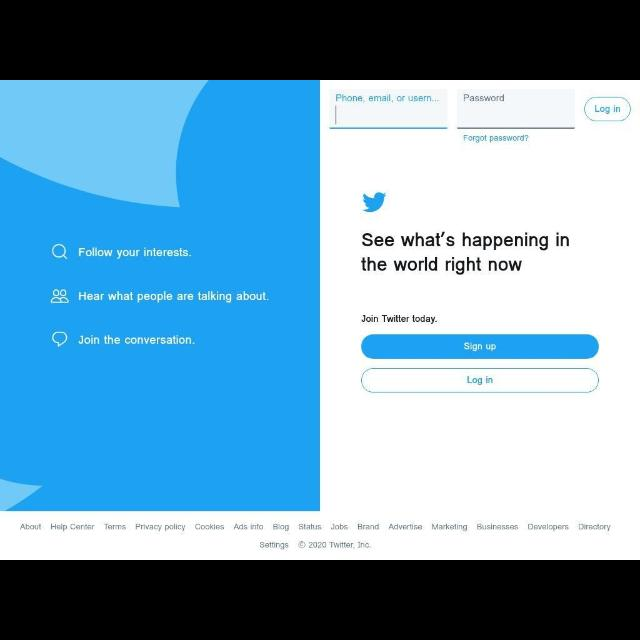backgroundimage: (1, 81, 320, 511)
icon: (51, 243, 69, 261), (50, 288, 70, 304), (52, 332, 68, 346), (298, 540, 306, 550)
image: (361, 191, 387, 213)
input: (330, 90, 448, 128), (458, 90, 574, 128)
multitab: (19, 523, 611, 533)
text: (362, 232, 570, 274), (78, 290, 270, 302), (78, 334, 196, 346), (78, 246, 192, 258), (336, 93, 440, 103), (360, 314, 438, 324), (462, 134, 528, 142), (135, 522, 187, 532), (308, 541, 372, 549), (50, 521, 96, 531), (477, 522, 519, 532), (528, 522, 570, 532), (430, 523, 470, 533), (463, 95, 505, 104), (388, 523, 424, 533), (578, 522, 612, 532), (464, 342, 496, 352), (232, 522, 264, 532), (194, 522, 224, 532), (259, 541, 289, 551), (594, 104, 622, 114), (466, 375, 494, 385), (19, 521, 43, 531), (103, 522, 127, 532), (297, 522, 321, 532), (356, 522, 380, 532), (329, 522, 348, 532), (272, 522, 290, 532)
textbutton: (362, 368, 600, 394), (362, 334, 598, 360), (585, 98, 631, 122)
